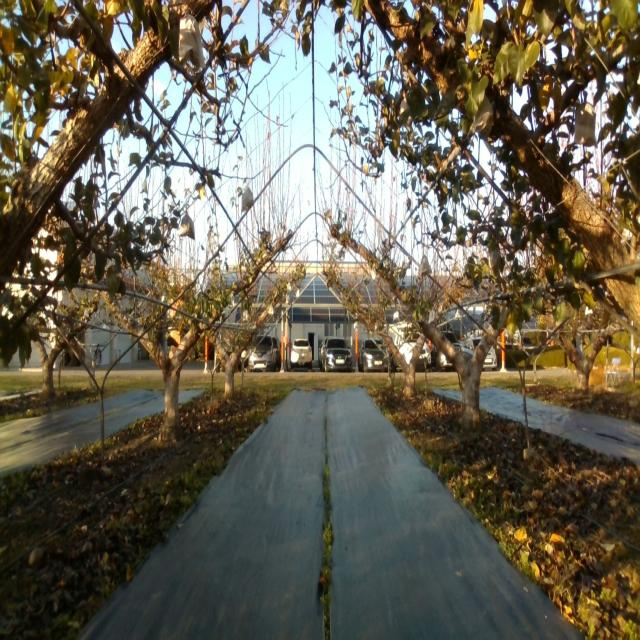pearbags: (172, 15, 205, 69), (574, 102, 598, 147), (179, 214, 195, 240), (241, 187, 254, 213), (419, 255, 432, 279)
